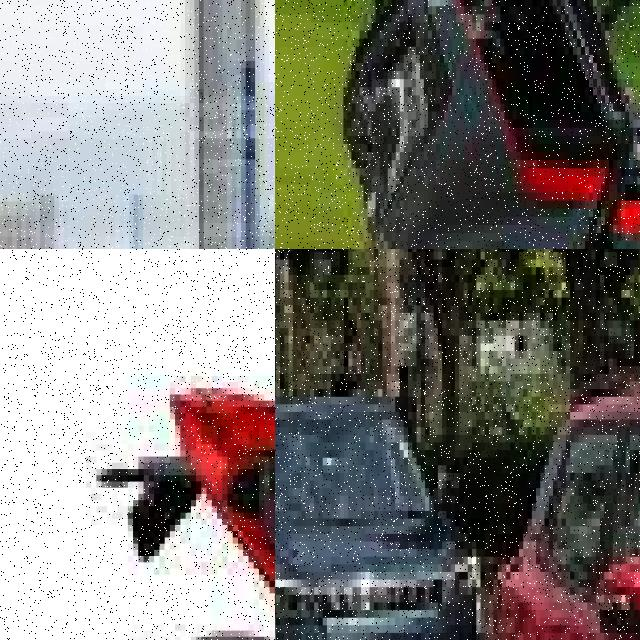bike: (275, 0, 640, 249), (96, 307, 275, 640)
car: (275, 351, 476, 640), (463, 351, 640, 640)
